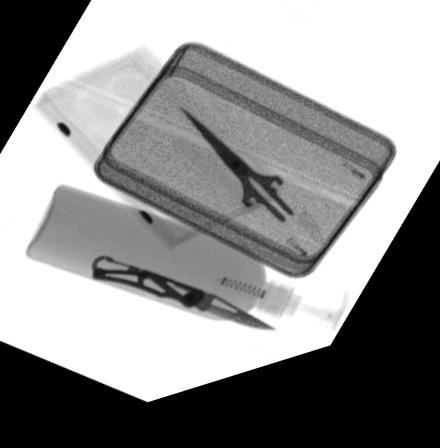Knife: (91, 261, 276, 349)
Scissors: (177, 116, 333, 280)
